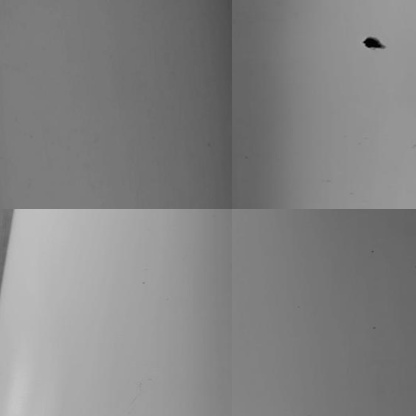kongdong: (362, 33, 382, 52)
